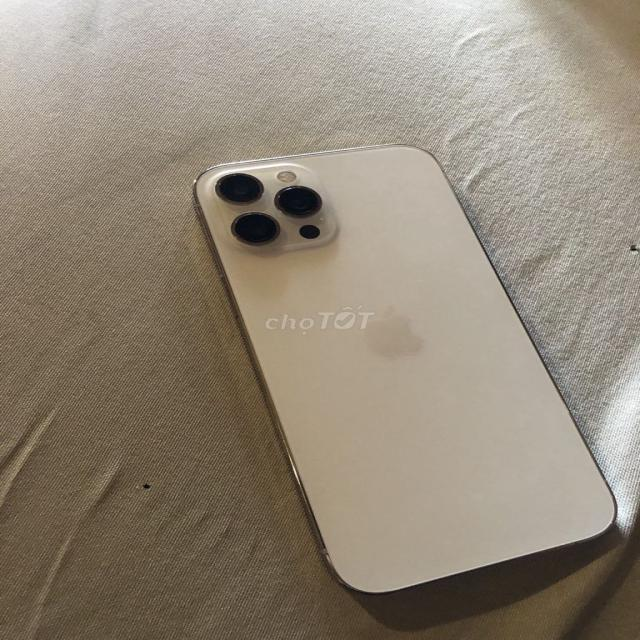gen_12_13: (178, 138, 624, 598)
